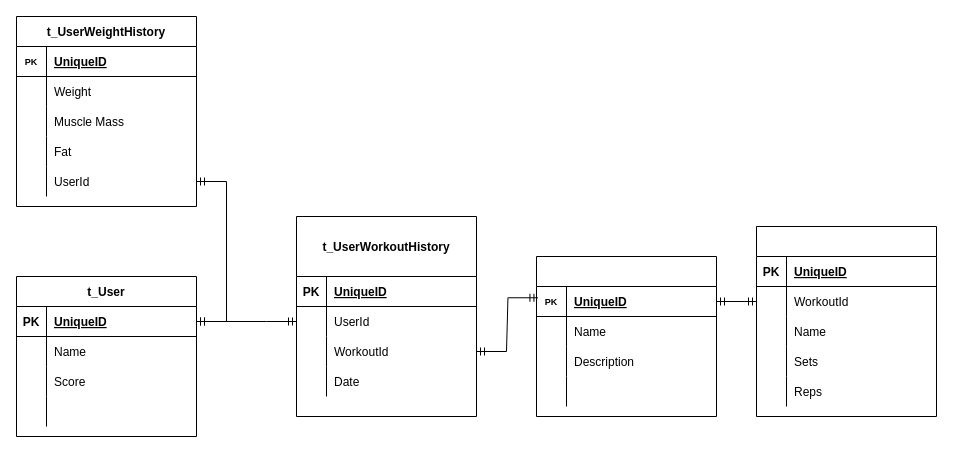
The diagram is 953 pixels wide and 453 high, and some of its shapes have lost their labels. The box of each missing label's shape, as (x1, y1, x2, y2) in pixels:
t_WorkoutContents: (756, 226, 936, 416)
t_Workouts: (536, 256, 716, 416)
